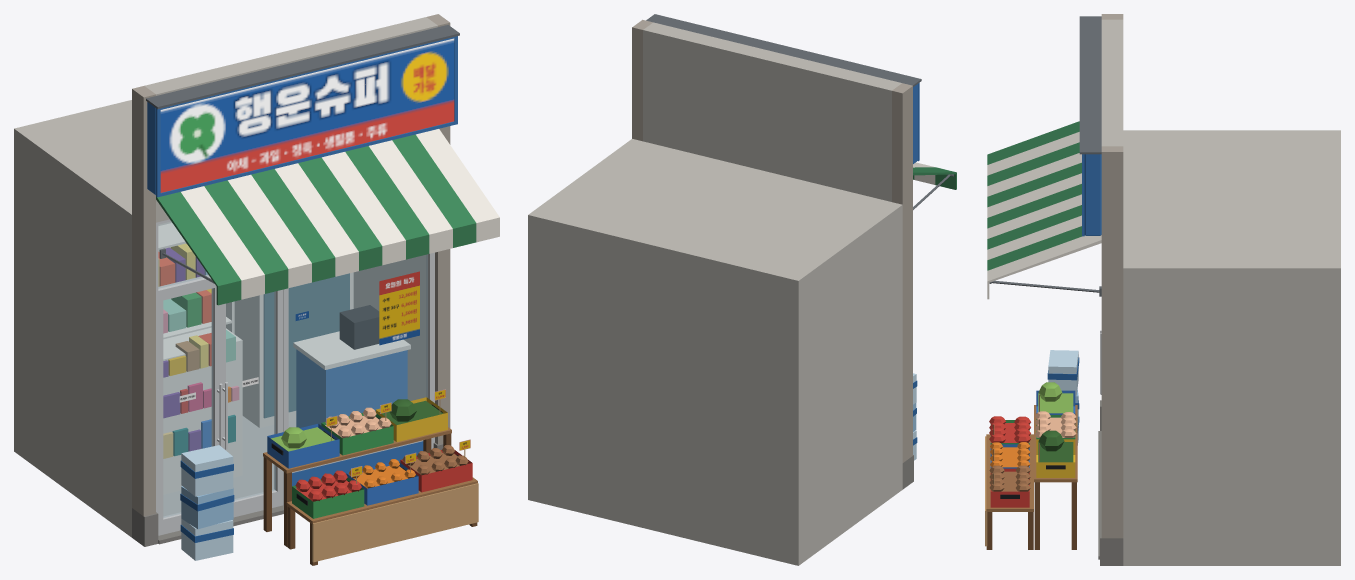
File: SC_Shop_Mart.gltf
3 views of the same model, side by side, from view 1: azimuth 30°, elevation 25°; view 2: azimuth 150°, elevation 25°; view 3: azimuth 270°, elevation 25° (orthographic). The views are drawn at different scales.
Visible parts, largest first — view 1: SC_Shop_Mart; view 2: SC_Shop_Mart; view 3: SC_Shop_Mart.
Part boxes in pixels (x1=…): SC_Shop_Mart: x1=14, y1=14, x2=499, y2=565; SC_Shop_Mart: x1=528, y1=14, x2=956, y2=565; SC_Shop_Mart: x1=985, y1=14, x2=1340, y2=565.
Size of the model in its own units: 3 by 4.2 by 3.27.
Materials: 5 (5 with a texture image).
